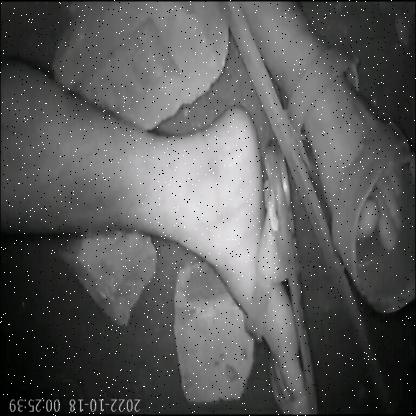leg: (0, 48, 321, 416), (225, 0, 416, 336)
